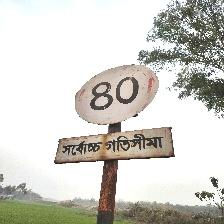Speed-limit: (56, 62, 172, 165)
